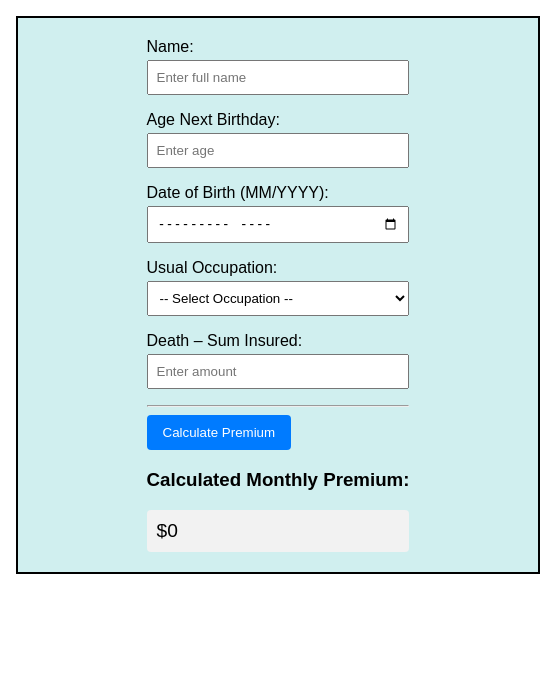
Test case: UserForm Component › shows specific validation message for invalid age and sum insured
Type "-5" into the number field labelled "Age Next Birthday:" at (278, 150), box [146,133,409,168]
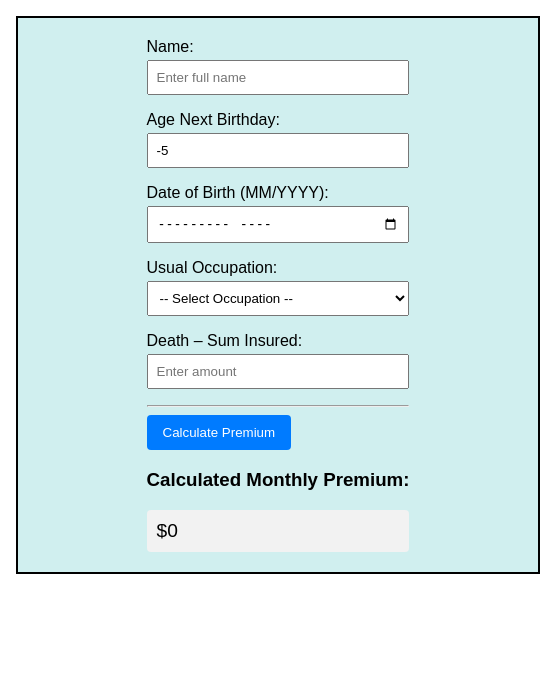
Type "0" into the number field labelled "Death – Sum Insured:" at (278, 372), box [146,354,409,389]
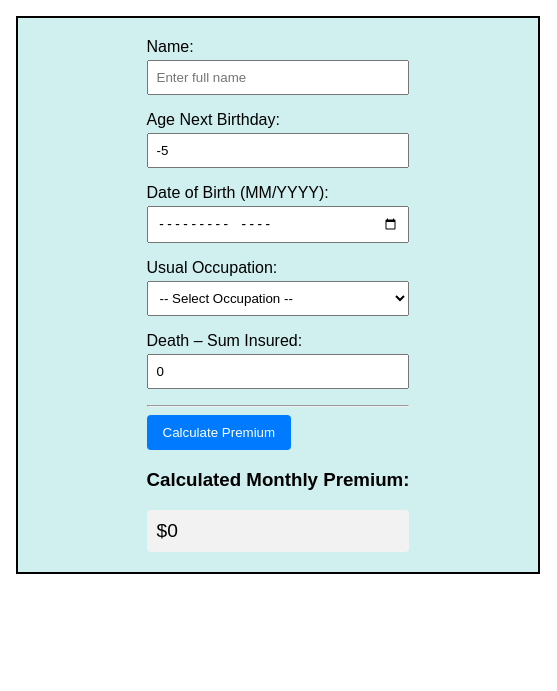
Click the button "Calculate Premium" at (219, 433), box [146,415,291,450]
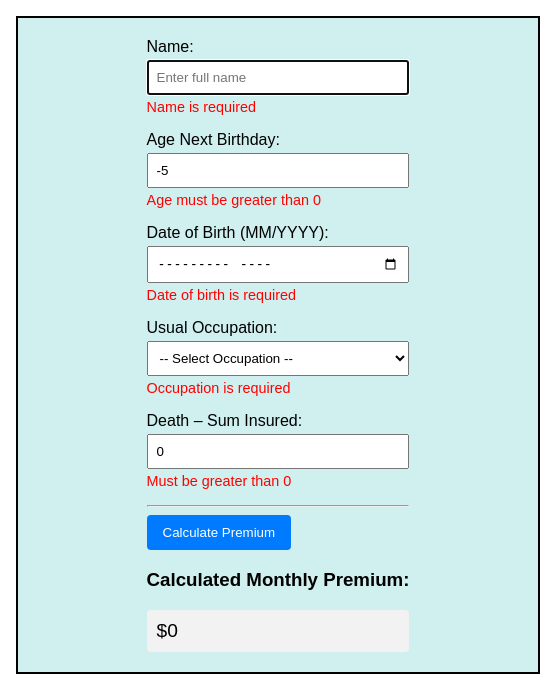
Now the text "Age must be greater than 0" is shown 2 times, box [146,192,321,208]; [146,473,291,489]
Now the text "Age must be greater than 0" is shown, box [146,192,321,208]
